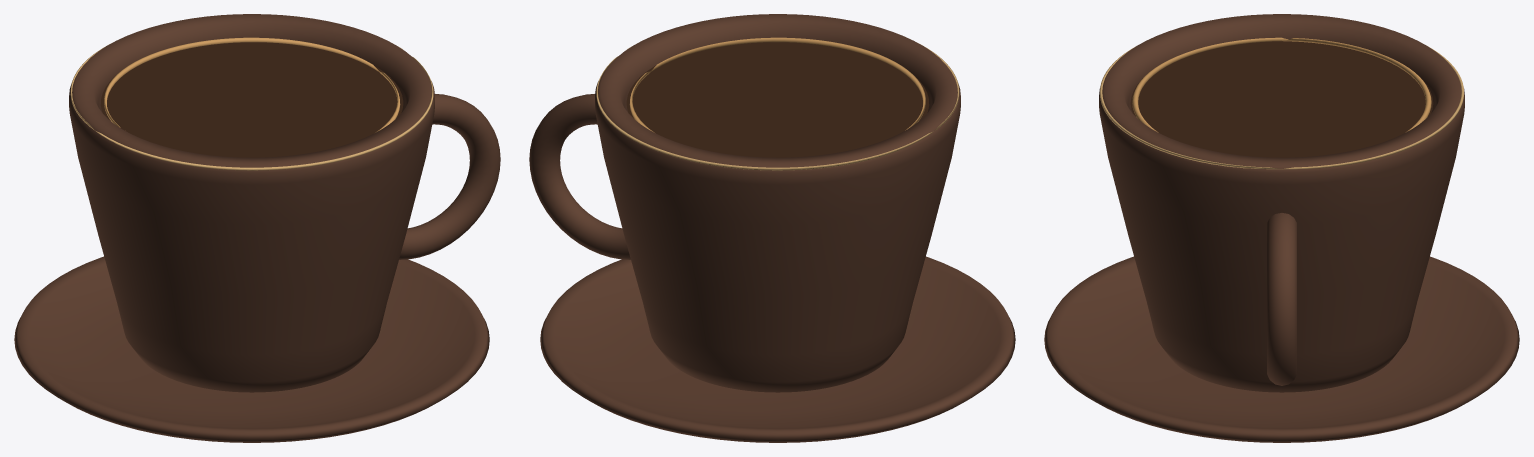
File: espresso-cup.glb
3 renders of one model, left to right at view 1: azimuth 30°, elevation 25°; view 2: azimuth 150°, elevation 25°; view 3: azimuth 270°, elevation 25°, orthographic.
Parts seen in each view (by area): view 1: Hand-thrown espresso cup, Matching sculpted saucer, Dark espresso surface, Sculpted cup handle, Crema edge, Fine brass rim; view 2: Hand-thrown espresso cup, Matching sculpted saucer, Dark espresso surface, Sculpted cup handle, Crema edge, Fine brass rim; view 3: Hand-thrown espresso cup, Matching sculpted saucer, Dark espresso surface, Sculpted cup handle, Crema edge, Fine brass rim.
Part boxes in pixels (<box>): Hand-thrown espresso cup: <box>69,14,434,392</box>; Matching sculpted saucer: <box>14,256,489,442</box>; Dark espresso surface: <box>100,42,403,157</box>; Sculpted cup handle: <box>399,94,500,259</box>; Crema edge: <box>104,37,400,132</box>; Fine brass rim: <box>70,43,433,170</box>; Hand-thrown espresso cup: <box>595,14,960,392</box>; Matching sculpted saucer: <box>540,256,1015,442</box>; Dark espresso surface: <box>626,42,929,157</box>; Sculpted cup handle: <box>529,94,630,259</box>; Crema edge: <box>629,37,925,132</box>; Fine brass rim: <box>596,43,959,170</box>; Hand-thrown espresso cup: <box>1099,14,1464,392</box>; Matching sculpted saucer: <box>1044,256,1519,442</box>; Dark espresso surface: <box>1130,41,1433,157</box>; Sculpted cup handle: <box>1267,213,1296,385</box>; Crema edge: <box>1132,37,1431,132</box>; Fine brass rim: <box>1100,46,1463,169</box>.
Size of the model in its own units: 2.81 by 1.66 by 2.56.
